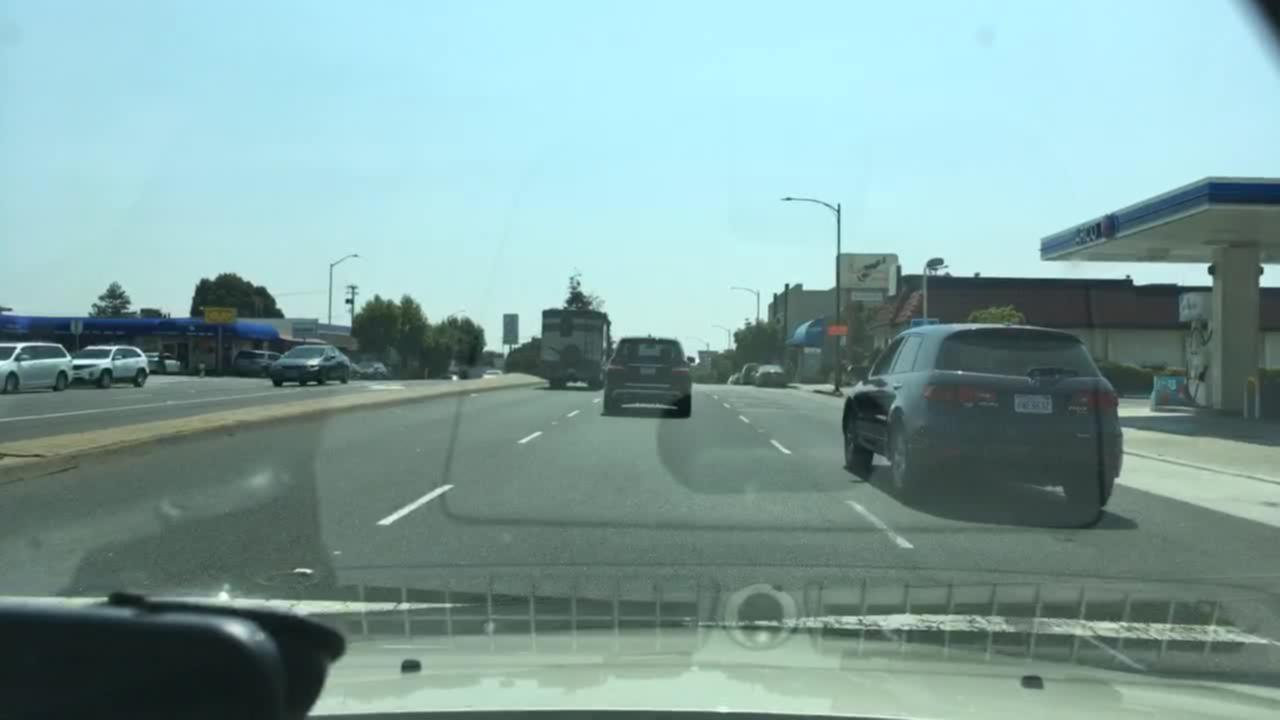acura: (1026, 374, 1043, 391)
